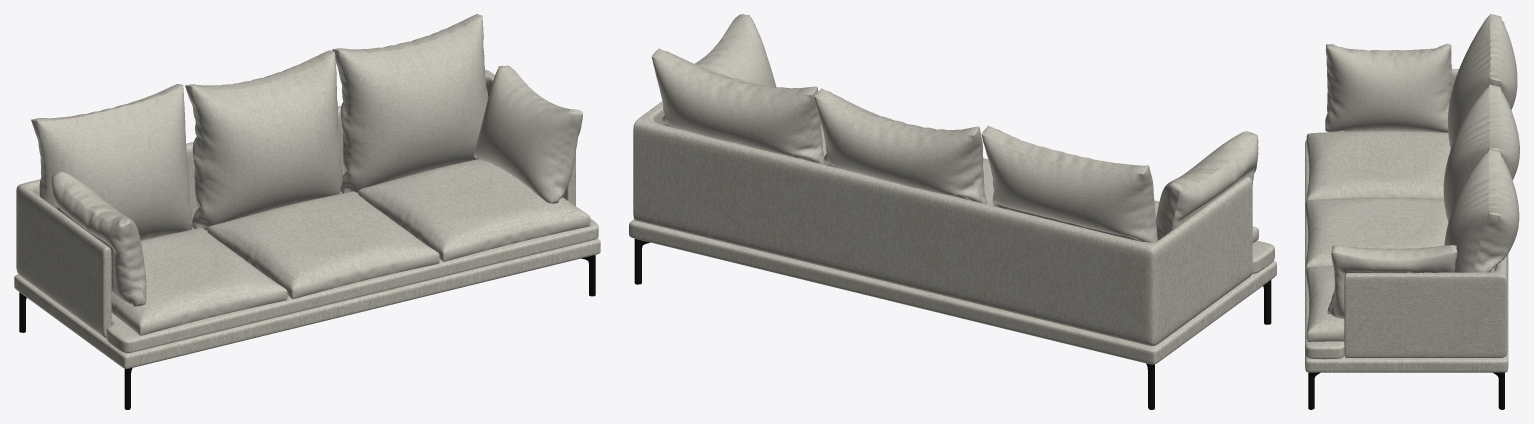
The model's file is sillon.obj.
3 views of the same model, side by side, from view 1: azimuth 30°, elevation 25°; view 2: azimuth 150°, elevation 25°; view 3: azimuth 270°, elevation 25° (orthographic). The views are drawn at different scales.
Visible parts, largest first — view 1: William:_Cushion.004, William:_Cushion.003, William:_Cushion.005, Cushion_Seats_.003_Cushion_Seats, Cushion_Seats_.002_Cushion_Seats, Cushion_Seats.001_Cushion_Seats, William_302_Zanotta.003, William_302_Zanotta.005, William:_Cushion_side.001, William_302_Zanotta.004, William:_Cushion_side, William_302_Zanotta_Legs.001; view 2: William_302_Zanotta.003, William:_Cushion.005, William_302_Zanotta.005, William:_Cushion.003, William:_Cushion.004, William:_Cushion_side, William:_Cushion_side.001, William_302_Zanotta_Legs.001, William_302_Zanotta.004; view 3: William_302_Zanotta.003, William:_Cushion_side, Cushion_Seats.001_Cushion_Seats, Cushion_Seats_.003_Cushion_Seats, William:_Cushion.003, William:_Cushion.004, William:_Cushion.005, William:_Cushion_side.001, William_302_Zanotta.005, Cushion_Seats_.002_Cushion_Seats, William_302_Zanotta.004, William_302_Zanotta_Legs.001.
Part boxes in pixels (bbox=[...]): William:_Cushion.004: bbox=[185, 50, 342, 230]; William:_Cushion.003: bbox=[332, 14, 488, 193]; William:_Cushion.005: bbox=[31, 84, 192, 240]; Cushion_Seats_.003_Cushion_Seats: bbox=[207, 191, 439, 299]; Cushion_Seats_.002_Cushion_Seats: bbox=[358, 159, 590, 261]; Cushion_Seats.001_Cushion_Seats: bbox=[111, 228, 287, 335]; William_302_Zanotta.003: bbox=[16, 70, 575, 337]; William_302_Zanotta.005: bbox=[14, 238, 600, 368]; William:_Cushion_side.001: bbox=[474, 65, 582, 203]; William_302_Zanotta.004: bbox=[106, 193, 598, 352]; William:_Cushion_side: bbox=[52, 171, 146, 306]; William_302_Zanotta_Legs.001: bbox=[19, 255, 595, 409]; William_302_Zanotta.003: bbox=[633, 101, 1252, 346]; William:_Cushion.005: bbox=[981, 125, 1157, 242]; William_302_Zanotta.005: bbox=[629, 219, 1276, 364]; William:_Cushion.003: bbox=[651, 48, 824, 164]; William:_Cushion.004: bbox=[814, 88, 986, 204]; William:_Cushion_side: bbox=[1156, 131, 1258, 239]; William:_Cushion_side.001: bbox=[695, 14, 776, 87]; William_302_Zanotta_Legs.001: bbox=[634, 238, 1271, 409]; William_302_Zanotta.004: bbox=[1252, 240, 1274, 273]; William_302_Zanotta.003: bbox=[1344, 69, 1507, 357]; William:_Cushion_side: bbox=[1325, 43, 1452, 132]; Cushion_Seats.001_Cushion_Seats: bbox=[1306, 131, 1450, 200]; Cushion_Seats_.003_Cushion_Seats: bbox=[1305, 198, 1448, 273]; William:_Cushion.003: bbox=[1444, 149, 1519, 272]; William:_Cushion.004: bbox=[1443, 84, 1519, 221]; William:_Cushion.005: bbox=[1448, 14, 1517, 149]; William:_Cushion_side.001: bbox=[1327, 245, 1457, 318]; William_302_Zanotta.005: bbox=[1305, 254, 1508, 372]; Cushion_Seats_.002_Cushion_Seats: bbox=[1306, 266, 1344, 341]; William_302_Zanotta.004: bbox=[1305, 140, 1344, 359]; William_302_Zanotta_Legs.001: bbox=[1308, 372, 1504, 409].
Bounding box in the file's own units: 2.24 × 0.9579 × 0.963.
Materials: 2 (1 with a texture image).
